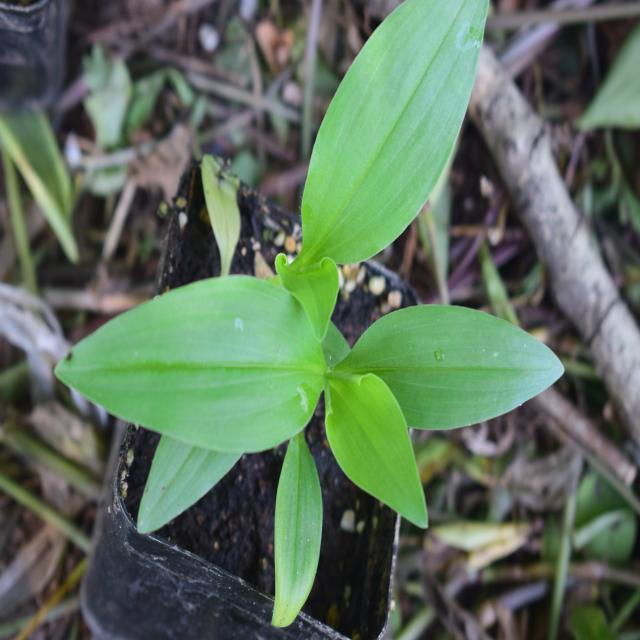Common Dayflower: (62, 235, 555, 543), (272, 0, 523, 254)
